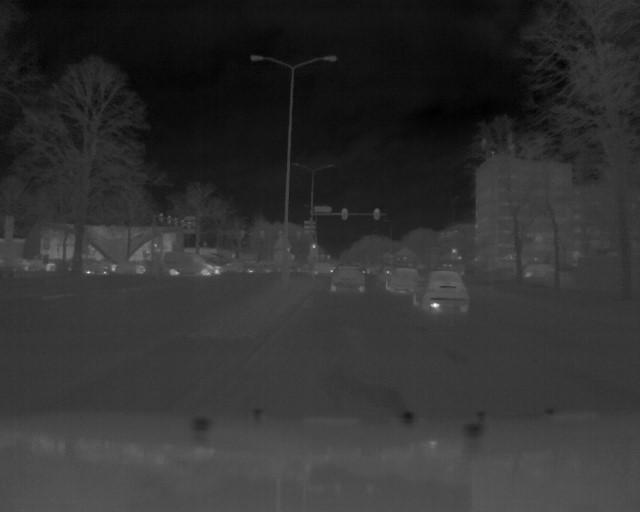car: (410, 267, 473, 316), (159, 250, 215, 281), (373, 264, 421, 293), (328, 262, 368, 296)
